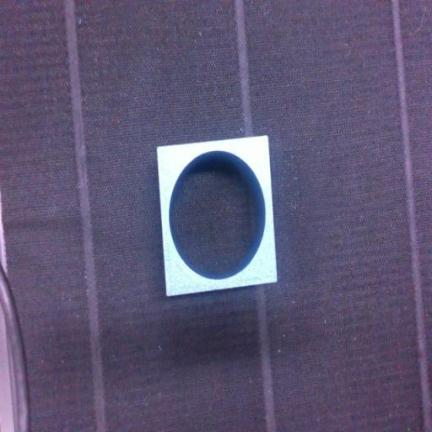hole: (157, 136, 276, 296)
